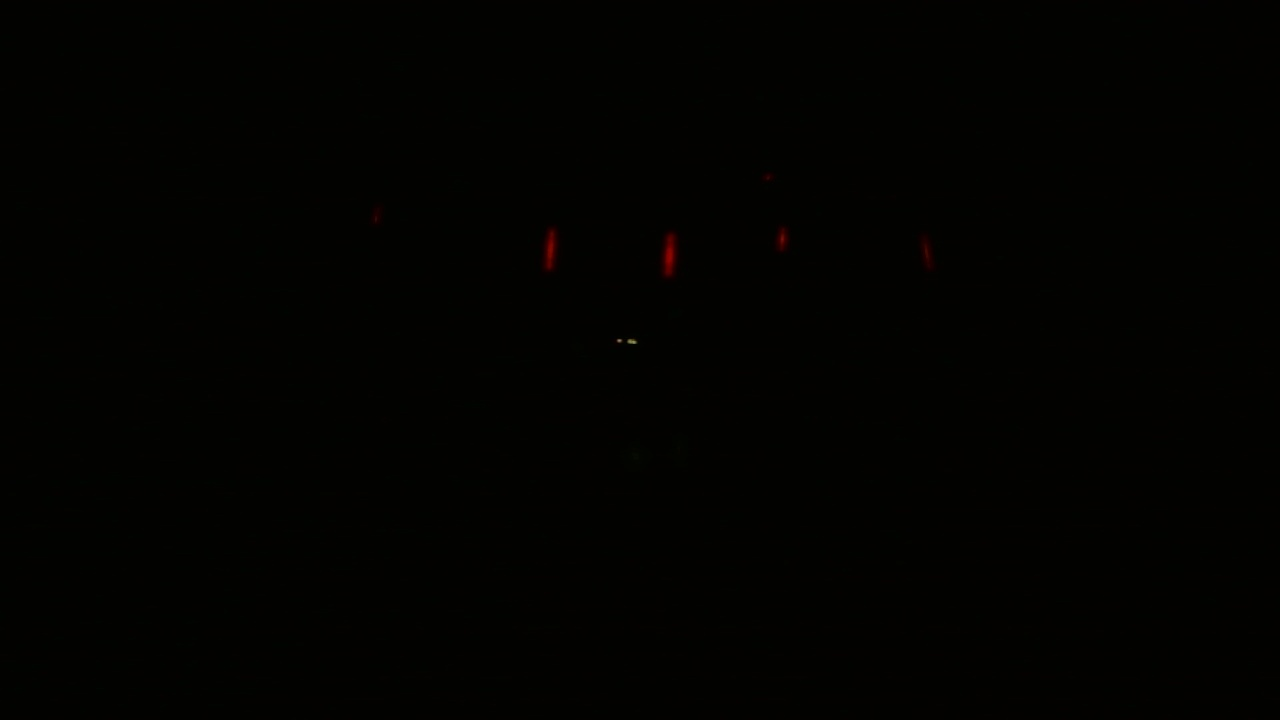pair1: (536, 222, 679, 283)
